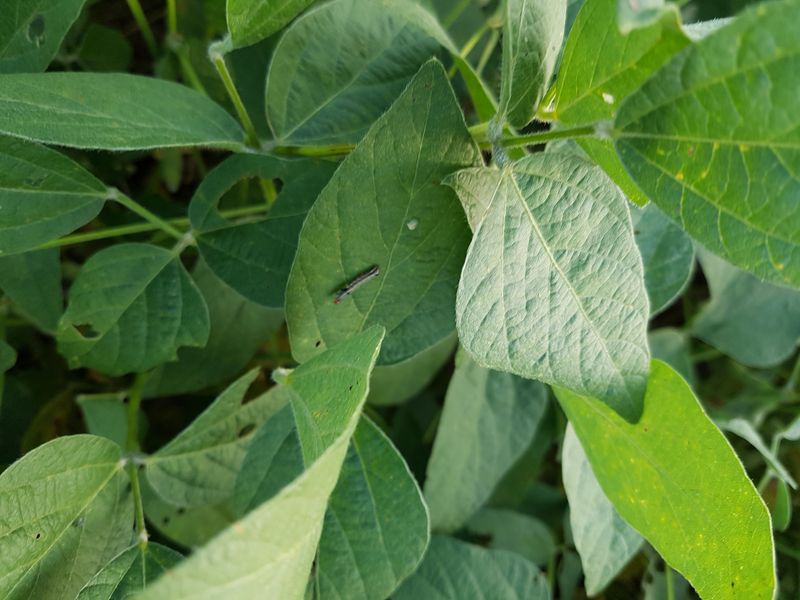Spodoptera_albula: (323, 257, 389, 312)
